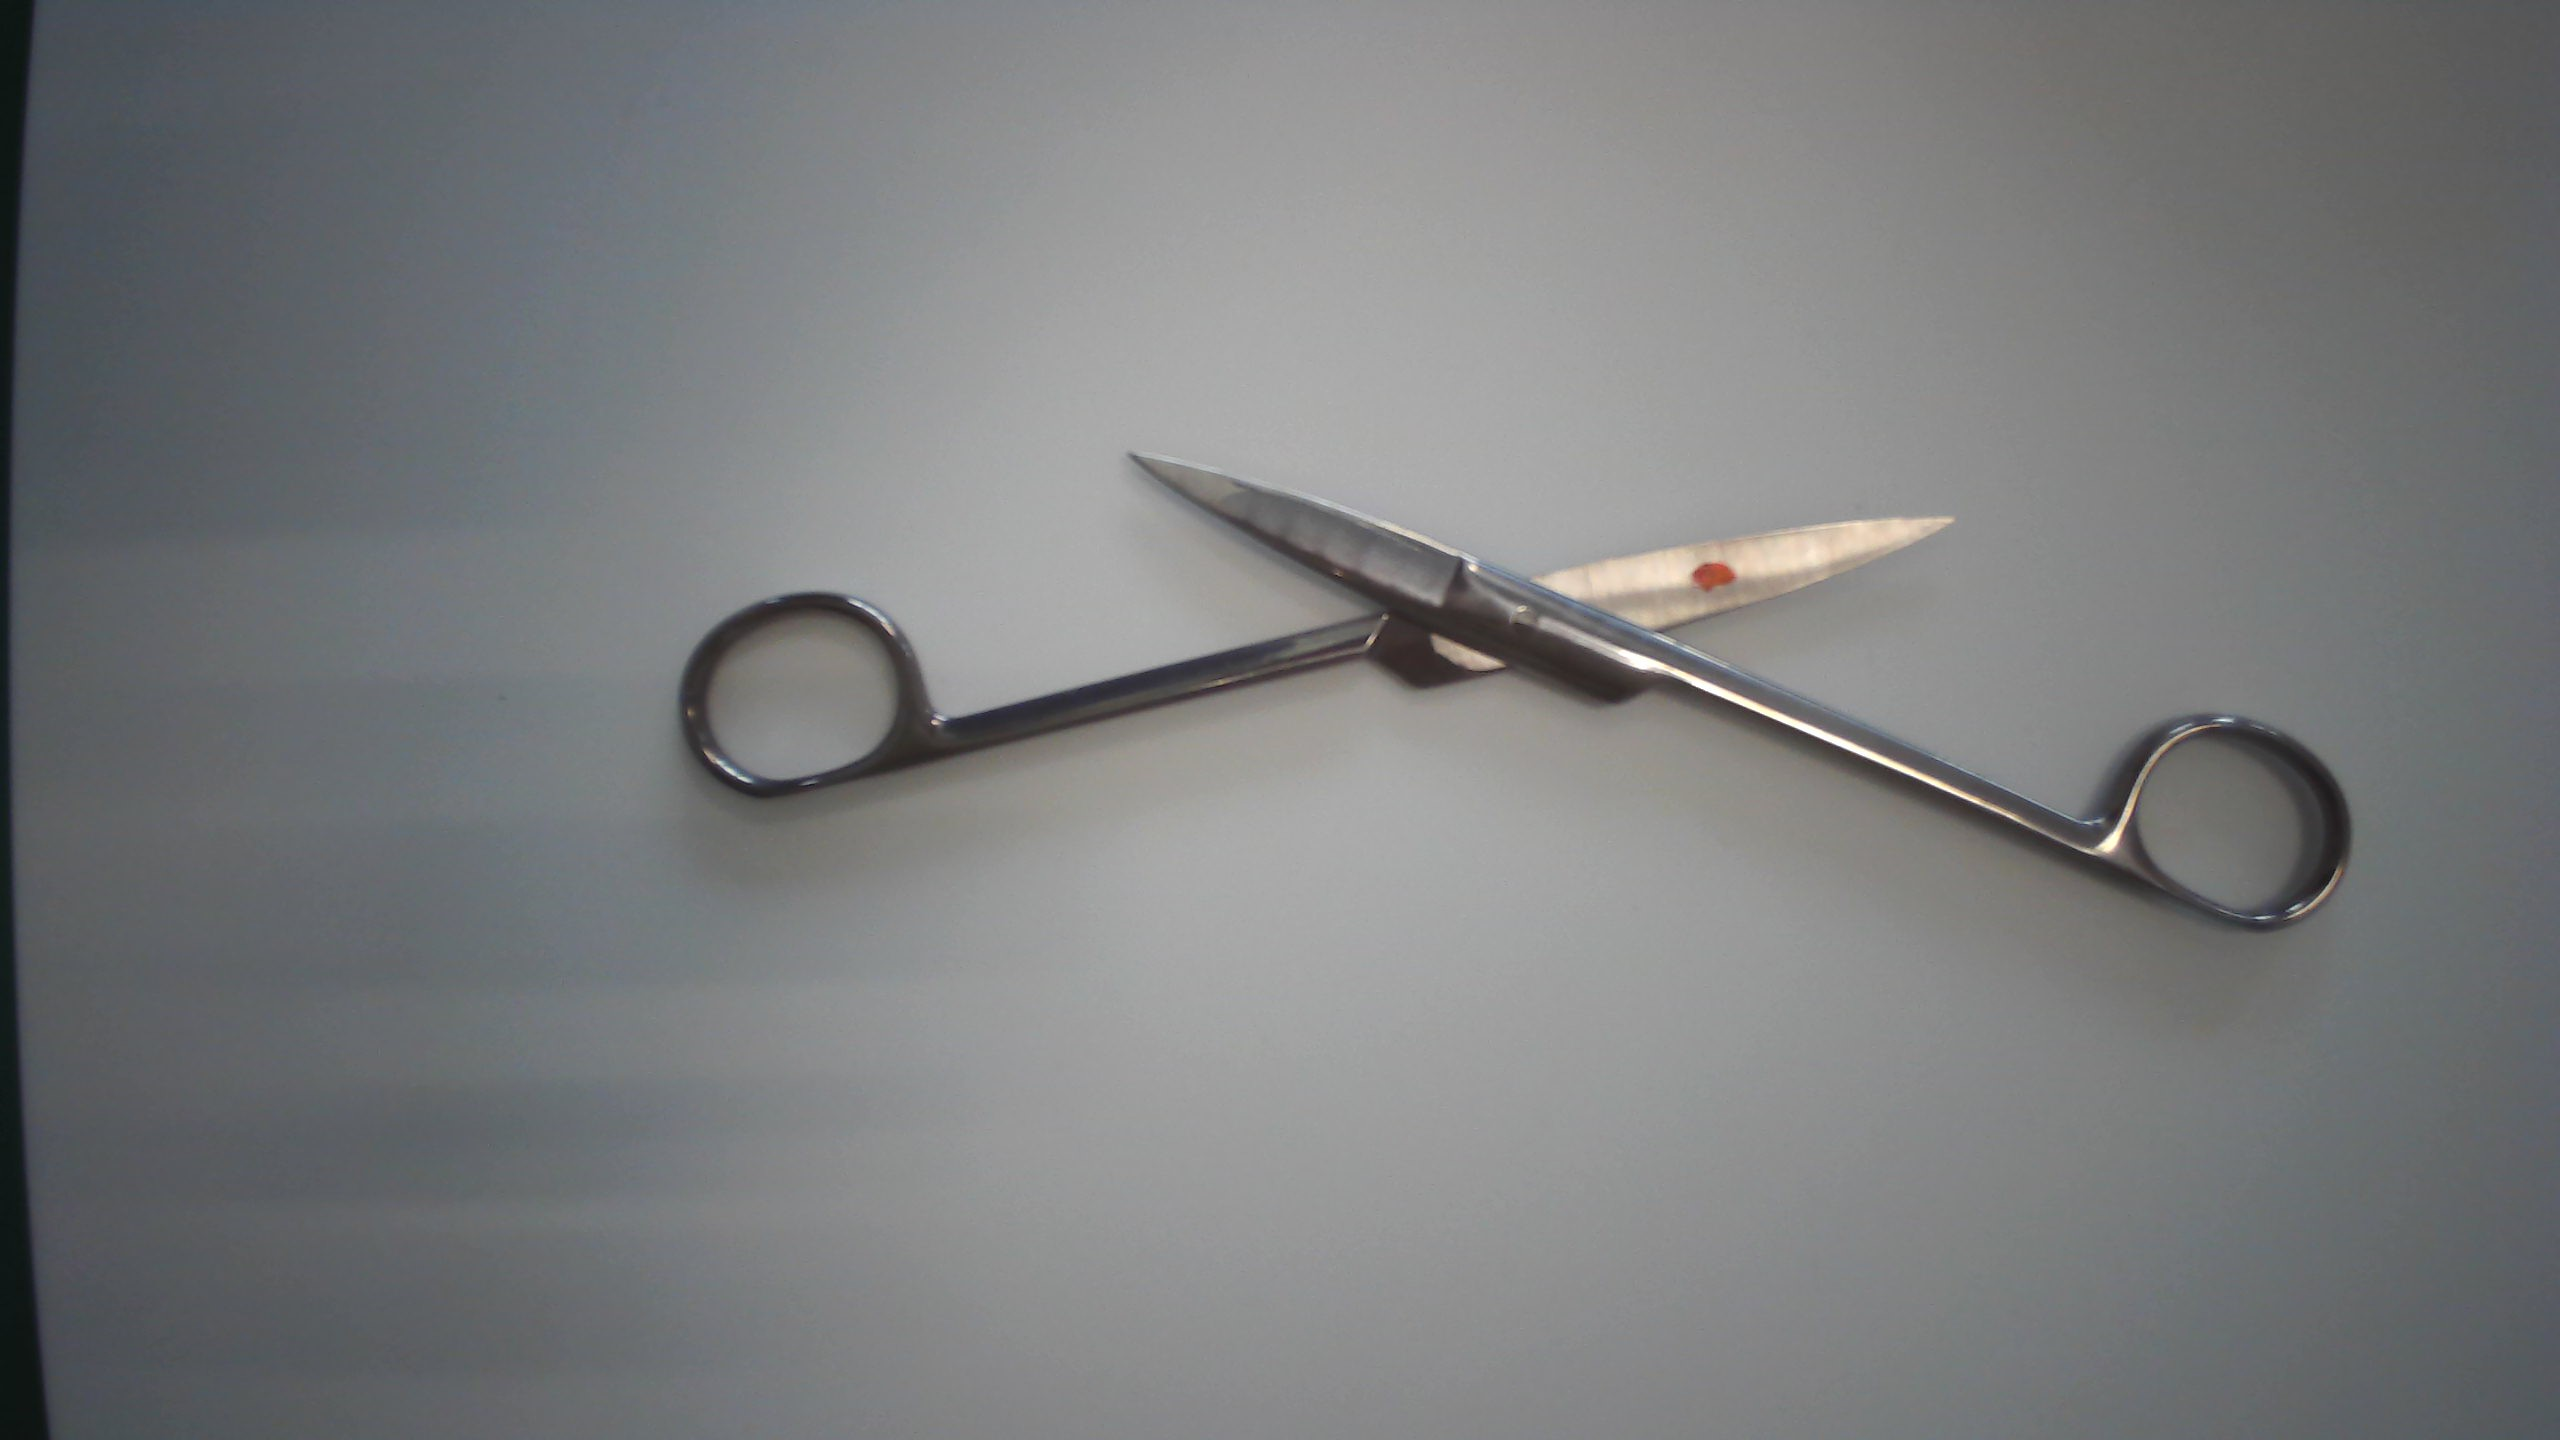Stain: (1681, 559, 1741, 603)
